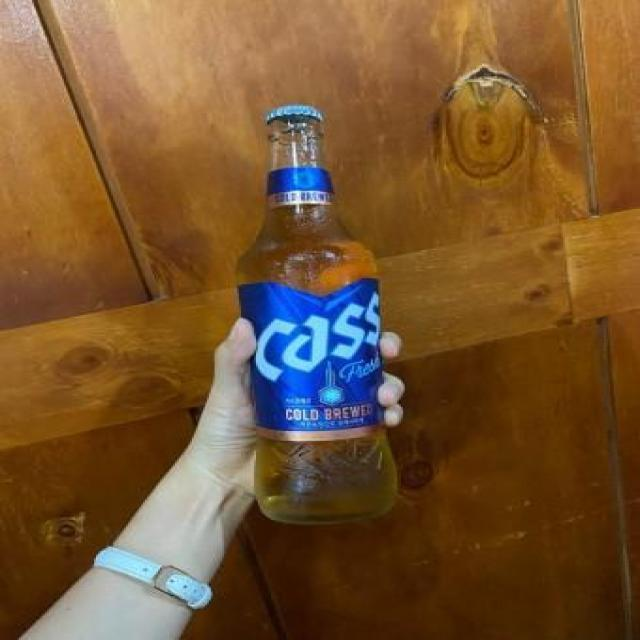beer-bottle: (206, 93, 410, 531)
